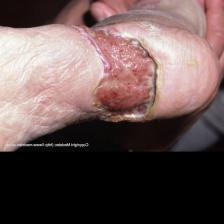Wound: (66, 22, 175, 123)
